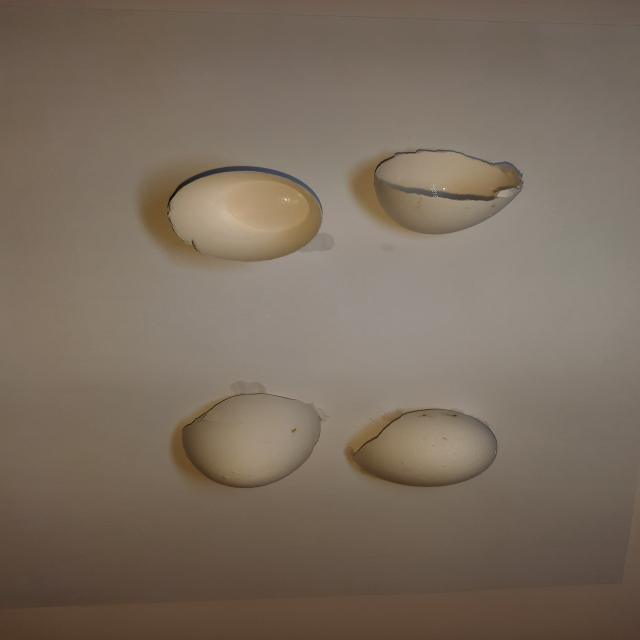egg shell: (150, 160, 340, 266), (336, 384, 509, 500), (352, 137, 540, 240), (164, 385, 328, 500)
